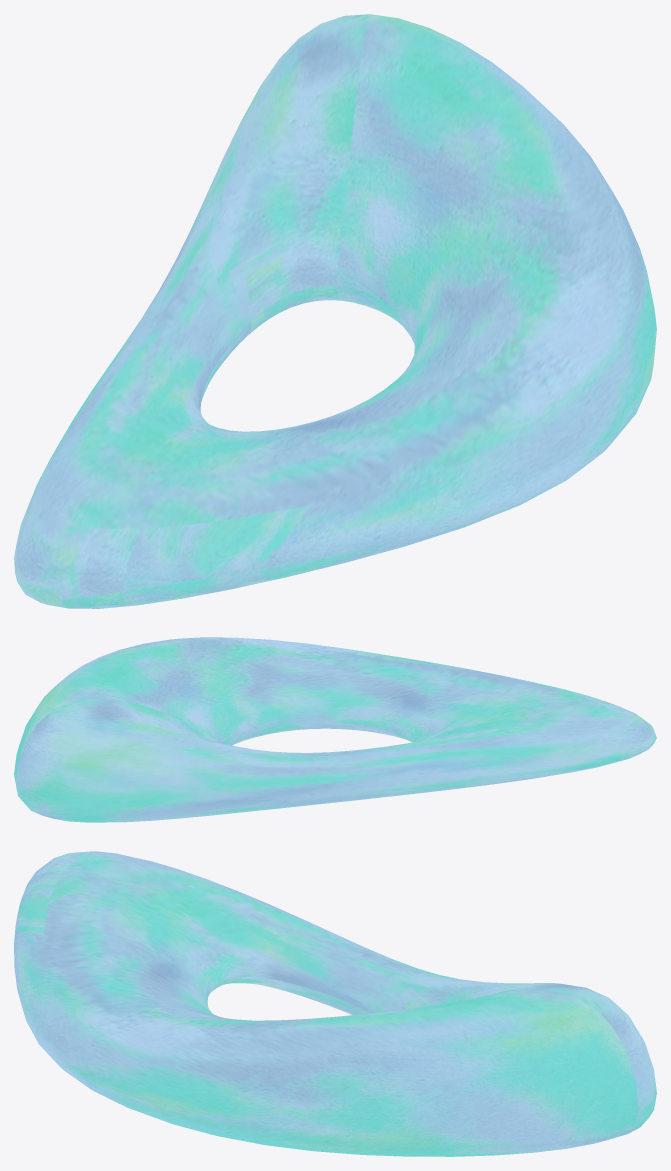
Rendered from Archi5.fbx.
3 renders of one model, top to bottom at view 1: azimuth 30°, elevation 25°; view 2: azimuth 150°, elevation 25°; view 3: azimuth 270°, elevation 25°, orthographic. The views are drawn at different scales.
Parts seen in each view (by area): view 1: Archi5; view 2: Archi5; view 3: Archi5.
Boxes of the visible parts, box(x1,y1,x2,y2) form: Archi5: box(14, 14, 656, 608); Archi5: box(14, 637, 656, 822); Archi5: box(14, 851, 656, 1156).
Bounding box in the file's own units: 23.2 × 22.15 × 5.33.
Materials: 1 (1 with a texture image).
